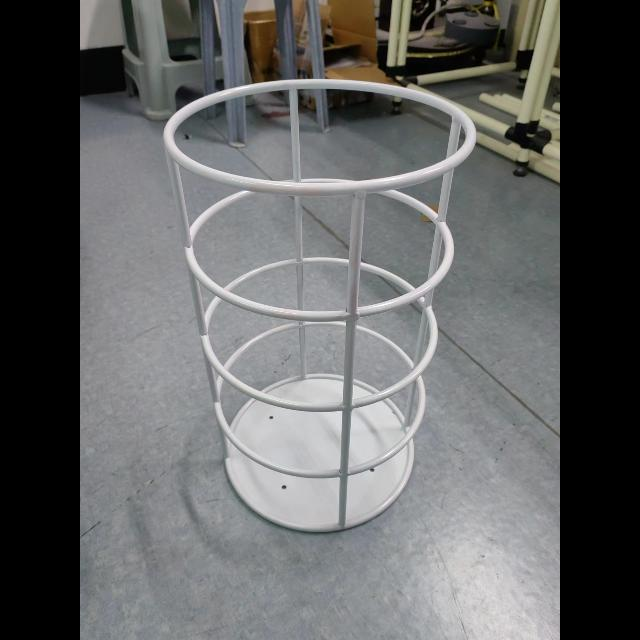S: (158, 75, 480, 541)
